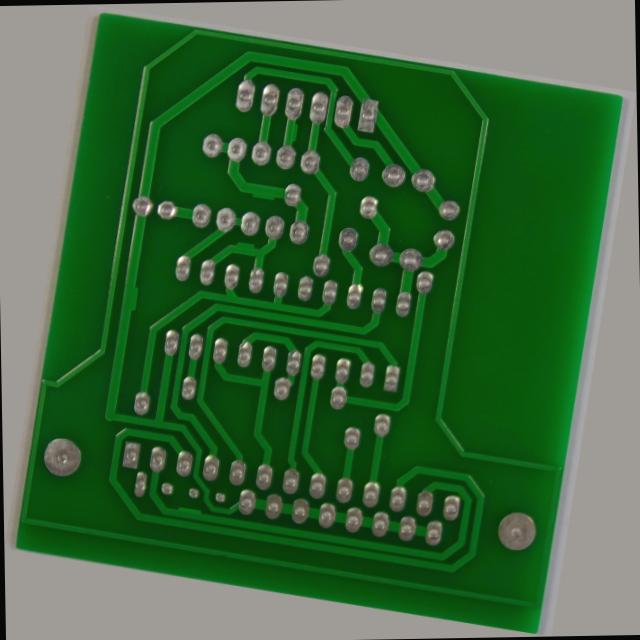spur: (212, 169, 248, 198), (90, 314, 113, 351), (190, 555, 227, 574), (202, 241, 235, 262), (239, 95, 260, 123)
